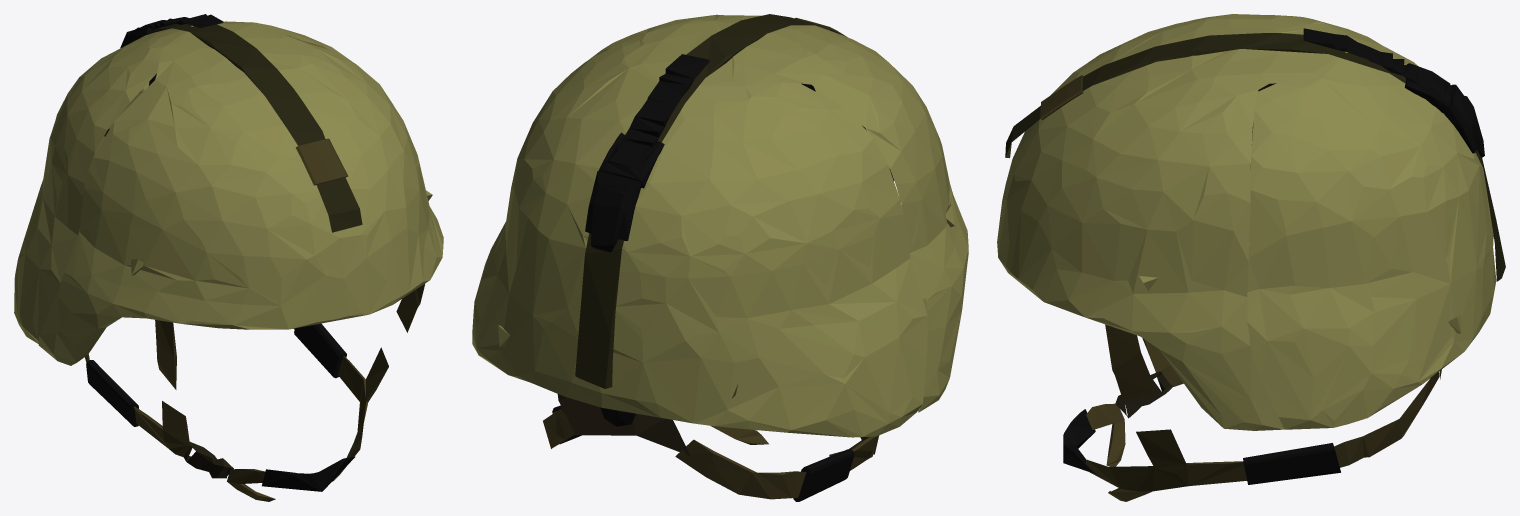
Rendered from Helmet.obj.
3 renders of one model, left to right at view 1: azimuth 30°, elevation 25°; view 2: azimuth 150°, elevation 25°; view 3: azimuth 270°, elevation 25°, orthographic. The views are drawn at different scales.
Parts seen in each view (by area): view 1: Helmet_camohelmet, Helmet_ziptan, Helmet_stapping1, Helmet_dark_plastic, Helmet_plastictan; view 2: Helmet_camohelmet, Helmet_dark_plastic, Helmet_stapping1, Helmet_ziptan, Helmet_mesh_padding; view 3: Helmet_camohelmet, Helmet_ziptan, Helmet_dark_plastic, Helmet_stapping1, Helmet_plastictan.
Part boxes in pixels (bbox=[...]): Helmet_camohelmet: bbox=[14, 21, 443, 365]; Helmet_ziptan: bbox=[82, 138, 424, 501]; Helmet_stapping1: bbox=[151, 23, 362, 232]; Helmet_dark_plastic: bbox=[86, 14, 355, 491]; Helmet_plastictan: bbox=[184, 442, 233, 478]; Helmet_camohelmet: bbox=[472, 14, 968, 437]; Helmet_dark_plastic: bbox=[552, 54, 894, 501]; Helmet_stapping1: bbox=[575, 14, 825, 388]; Helmet_ziptan: bbox=[543, 17, 879, 499]; Helmet_mesh_padding: bbox=[557, 394, 690, 456]; Helmet_camohelmet: bbox=[997, 14, 1496, 430]; Helmet_ziptan: bbox=[1040, 75, 1439, 501]; Helmet_dark_plastic: bbox=[1063, 28, 1484, 484]; Helmet_stapping1: bbox=[1005, 33, 1505, 281]; Helmet_plastictan: bbox=[1115, 371, 1172, 418].
Bounding box in the file's own units: 0.2553 × 0.2716 × 0.2783.
